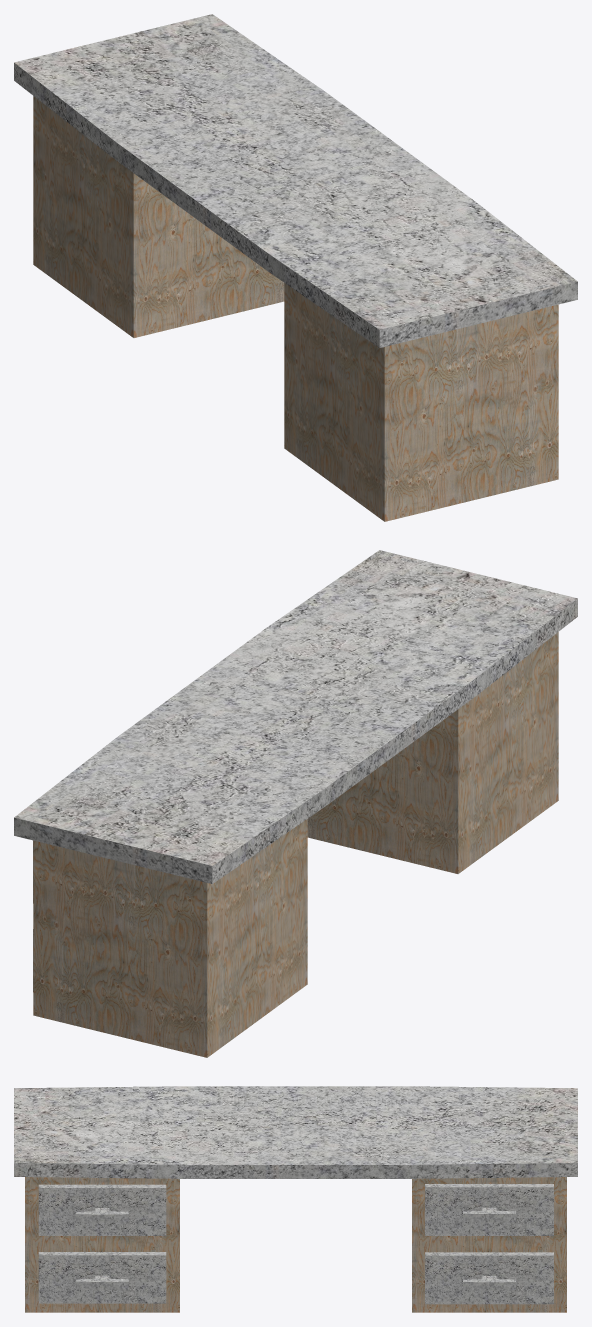
File: table.glb
3 views of the same model, one above another, from view 1: azimuth 30°, elevation 25°; view 2: azimuth 150°, elevation 25°; view 3: azimuth 270°, elevation 25° (orthographic). The views are drawn at different scales.
Visible parts, largest first — view 1: Cube; view 2: Cube; view 3: Cube.
Part boxes in pixels (<box>): Cube: <box>14,14,577,521</box>; Cube: <box>14,550,577,1057</box>; Cube: <box>14,1086,577,1312</box>.
Size of the model in its own units: 2.5 by 2.2 by 7.28.
Materials: 1 (1 with a texture image).
